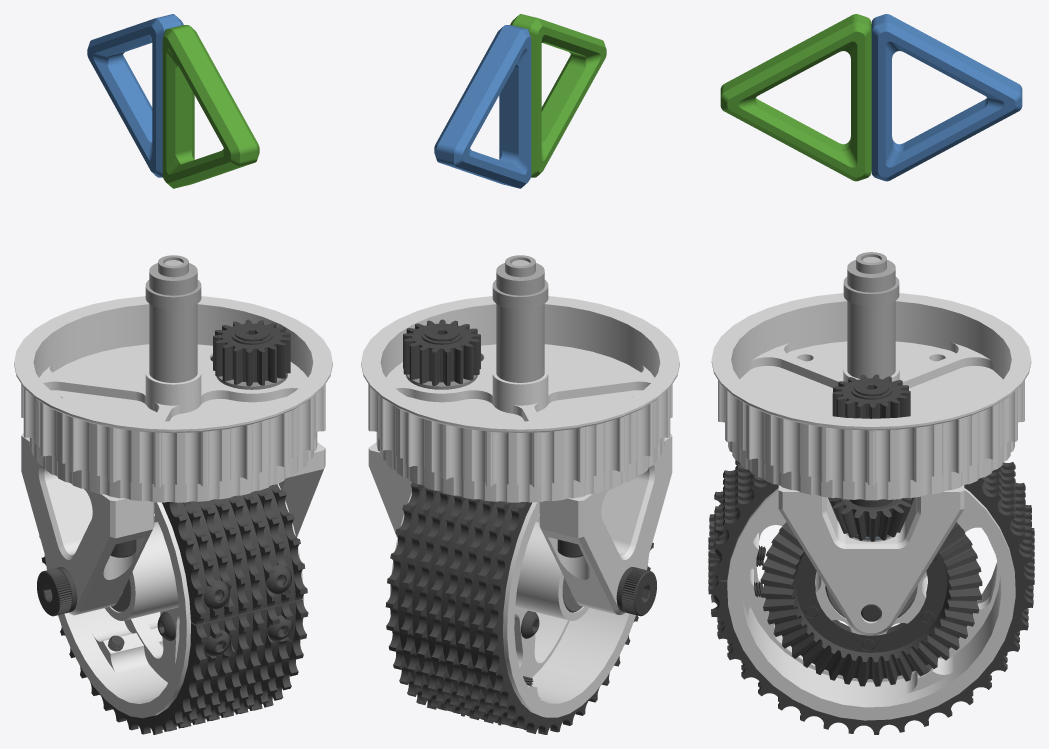
The model's file is Robot_Swerve_3.glb.
3 renders of one model, left to right at view 1: azimuth 30°, elevation 25°; view 2: azimuth 150°, elevation 25°; view 3: azimuth 270°, elevation 25°, orthographic.
Parts seen in each view (by area): view 1: MK3 Base Pulley Tall, Tread, Blue Nitrile 4in X 1.5in, Wheel, SDS, Nitrile Tread, 4in X 1.5in, Bearing Bore, Wheel Mount A, Green, Blue, MK3 Center Column, Gear, 17T, 20DP, .375Hex, Wheel Mount B Gen2, Screw, Shoulder, .375 X 2.5, 5_16-18, 91259A634_91259A634, Screw, 10-32 X .5, Button, 97763A232_97763A232 (×2); view 2: MK3 Base Pulley Tall, Tread, Blue Nitrile 4in X 1.5in, Wheel, SDS, Nitrile Tread, 4in X 1.5in, Bearing Bore, Wheel Mount A, Blue, Green, MK3 Center Column, Gear, 17T, 20DP, .375Hex, Wheel Mount B Gen2, Screw, Shoulder, .375 X 2.5, 5_16-18, 91259A634_91259A634; view 3: MK3 Base Pulley Tall, Wheel, SDS, Nitrile Tread, 4in X 1.5in, Bearing Bore, Bevel Gear, 4515, Tread, Blue Nitrile 4in X 1.5in, Wheel Mount B Gen2, Green, Blue, MK3 Center Column, Bevel Gear, 1545, Gear, 17T, 20DP, .375Hex.
Part boxes in pixels (x1,y1,x2,y2): MK3 Base Pulley Tall: (14,296,332,502); Tread, Blue Nitrile 4in X 1.5in: (39,484,308,734); Wheel, SDS, Nitrile Tread, 4in X 1.5in, Bearing Bore: (44,483,303,718); Wheel Mount A: (21,433,154,615); Green: (162,25,259,188); Blue: (87,14,183,177); MK3 Center Column: (145,255,201,382); Gear, 17T, 20DP, .375Hex: (213,319,290,386); Wheel Mount B Gen2: (278,442,325,537); Screw, Shoulder, .375 X 2.5, 5_16-18, 91259A634_91259A634: (37,567,77,616); Screw, 10-32 X .5, Button, 97763A232_97763A232 (×2): (203,565,291,609); MK3 Base Pulley Tall: (361,296,679,502); Tread, Blue Nitrile 4in X 1.5in: (385,482,653,734); Wheel, SDS, Nitrile Tread, 4in X 1.5in, Bearing Bore: (390,492,648,717); Wheel Mount A: (539,433,672,614); Blue: (434,25,531,188); Green: (510,14,606,177); MK3 Center Column: (492,255,548,382); Gear, 17T, 20DP, .375Hex: (403,319,480,385); Wheel Mount B Gen2: (368,442,411,537); Screw, Shoulder, .375 X 2.5, 5_16-18, 91259A634_91259A634: (616,567,656,616); MK3 Base Pulley Tall: (711,293,1031,500); Wheel, SDS, Nitrile Tread, 4in X 1.5in, Bearing Bore: (727,488,1015,720); Bevel Gear, 4515: (760,497,982,686); Tread, Blue Nitrile 4in X 1.5in: (708,460,1034,734); Wheel Mount B Gen2: (778,485,964,635); Green: (720,14,871,181); Blue: (871,14,1022,181); MK3 Center Column: (843,252,899,378); Bevel Gear, 1545: (830,497,912,541); Gear, 17T, 20DP, .375Hex: (832,374,910,418).
Bounding box in the file's own units: 0.0984 × 0.2344 × 0.1003.
